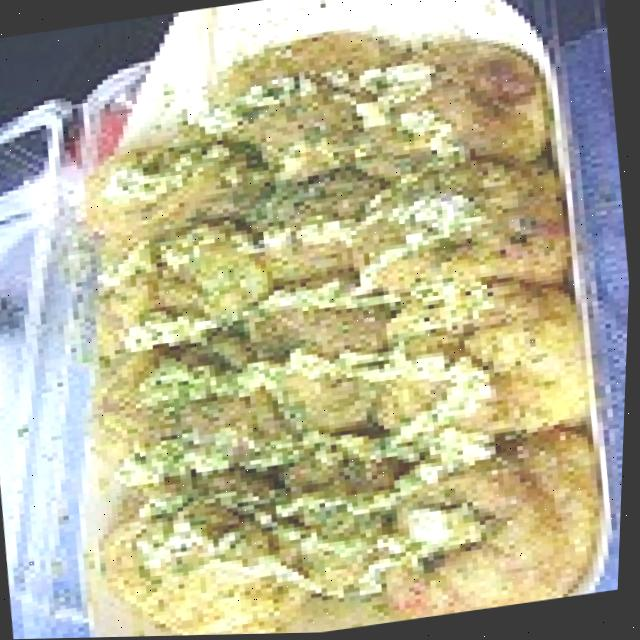炸货点心: (23, 0, 640, 639)
